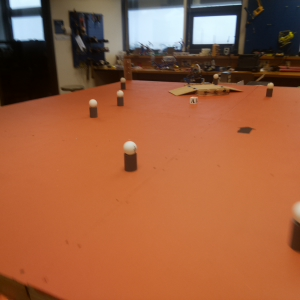blockA: (191, 99, 200, 105)
corner: (121, 55, 137, 78)
obstacle: (121, 139, 143, 173), (286, 202, 300, 254), (87, 99, 98, 120), (113, 91, 127, 107), (264, 81, 275, 97), (118, 78, 128, 90), (211, 73, 220, 86)
side: (199, 88, 228, 95)
slope: (169, 86, 198, 95), (230, 86, 242, 96)
start: (234, 121, 254, 140)
